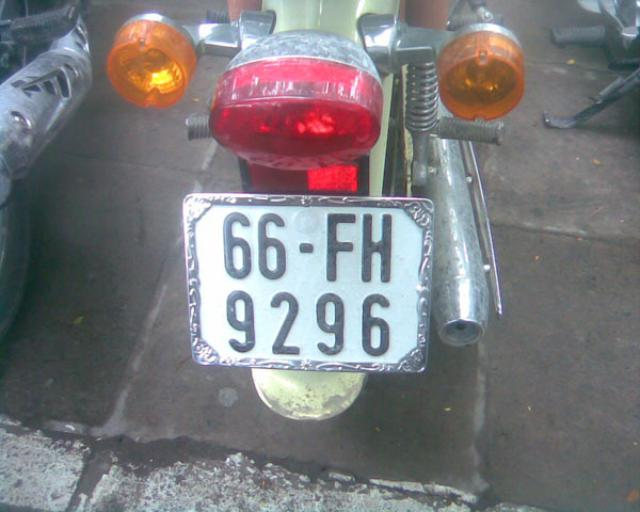plate: (182, 190, 434, 376)
